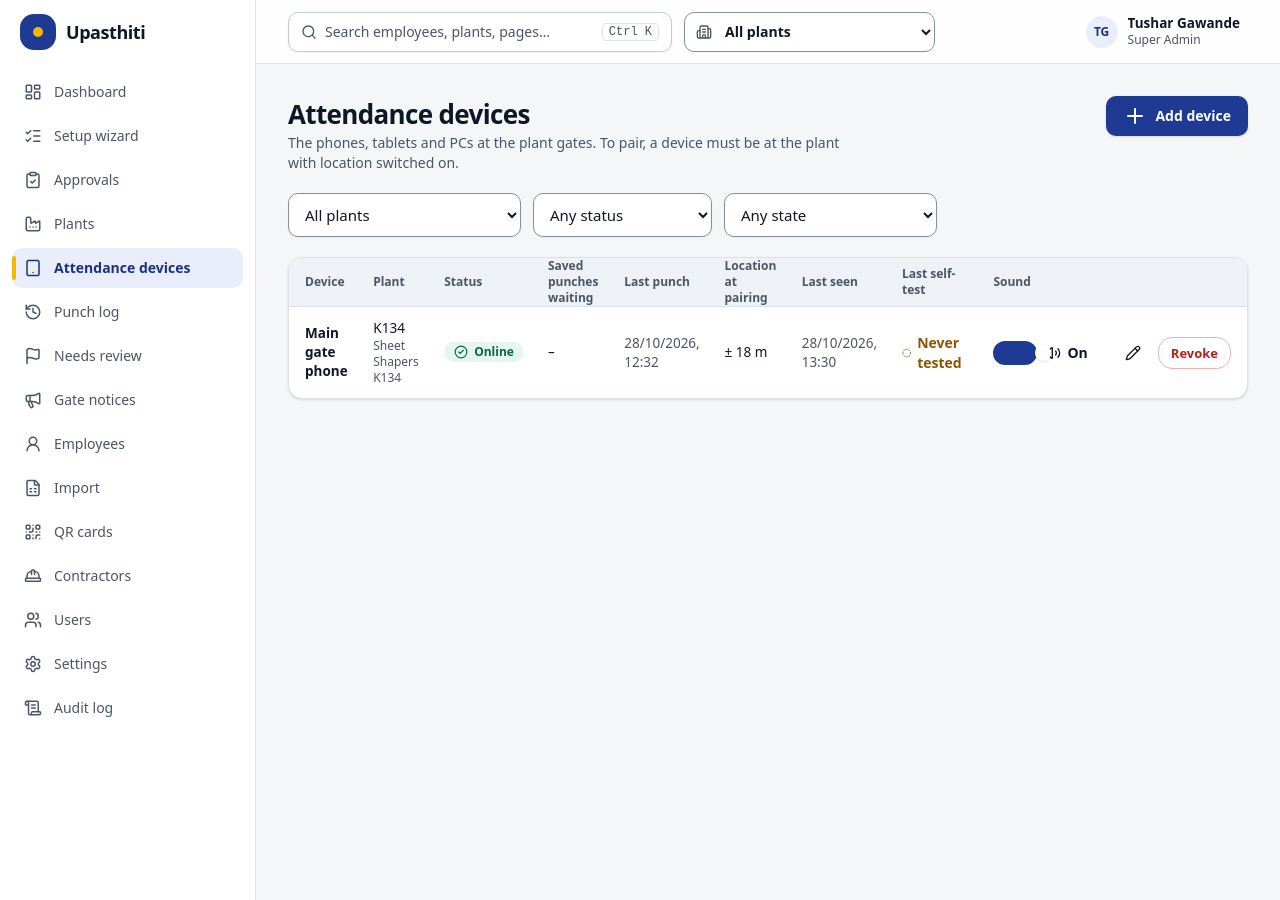
Test: the drawer facts › shows a battery that is not charging, a camera that does not work and no storage figure
Click the button "Main gate phone".
click(327, 353)  # box [305,324,349,382]
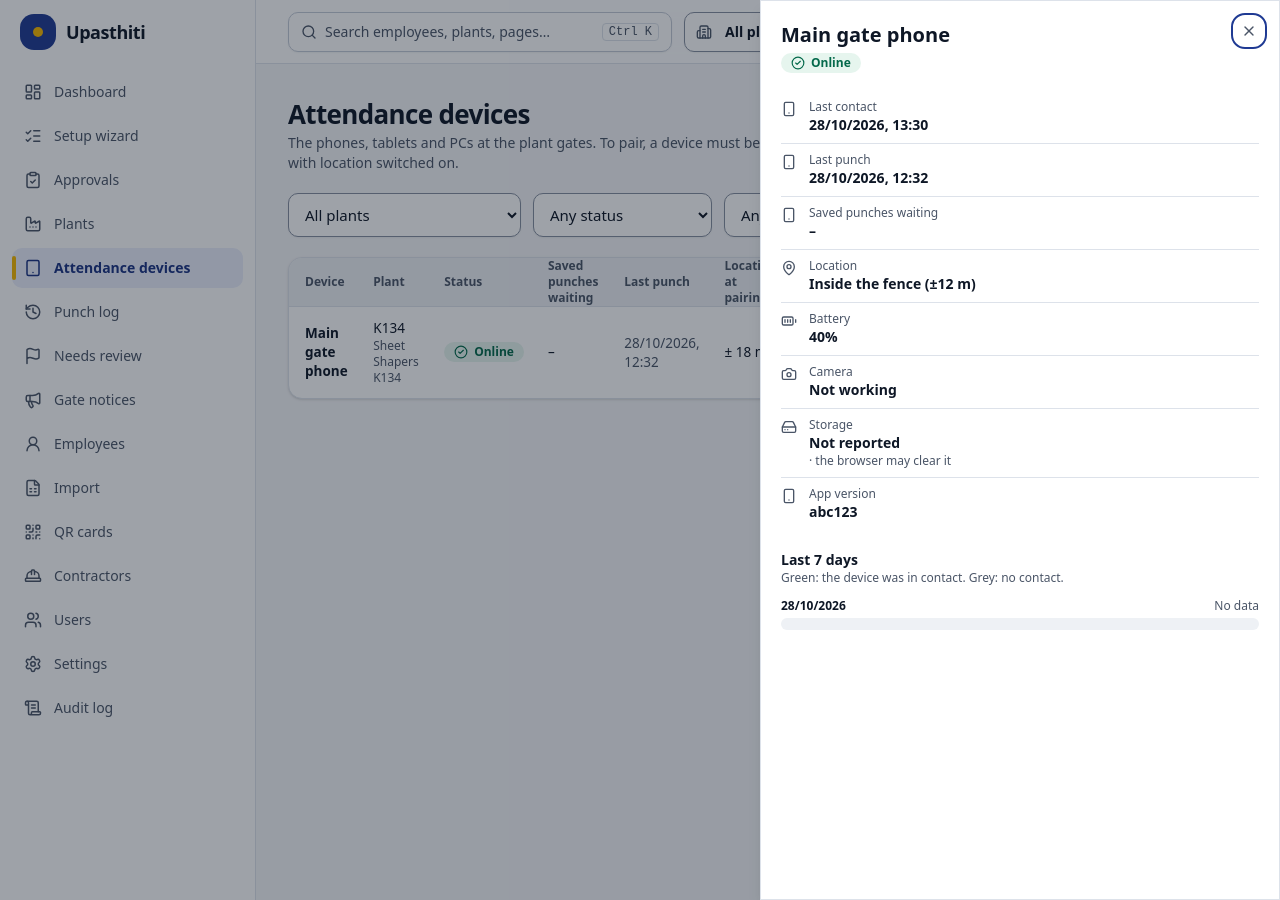
Expected: the text "40%" is shown, [809,327,838,346]
Expected: the text "Not working" is shown, [809,380,897,400]
Expected: the text "Not reported" is shown, [809,433,900,452]
